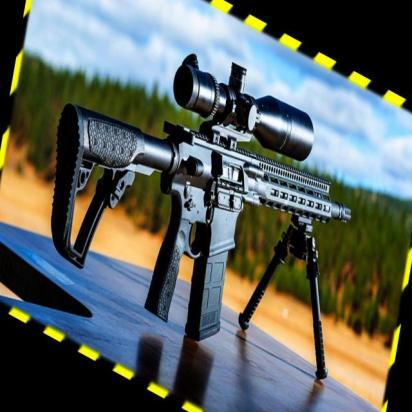Gun: (49, 54, 351, 340)
